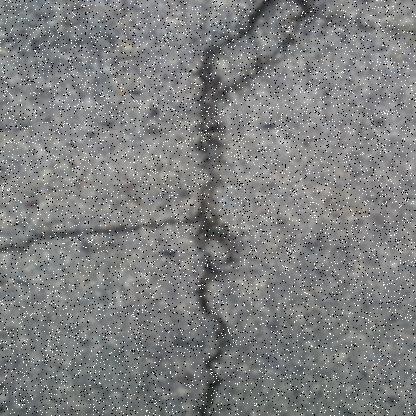Cracks: (175, 0, 329, 415), (0, 199, 235, 261)
